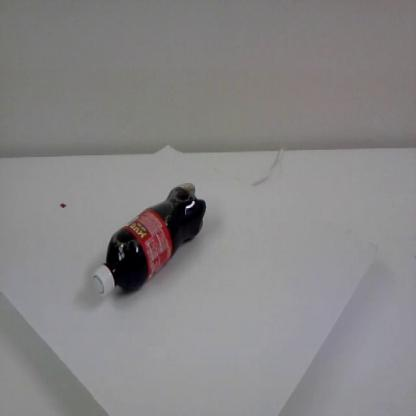bottle: (92, 180, 208, 306)
